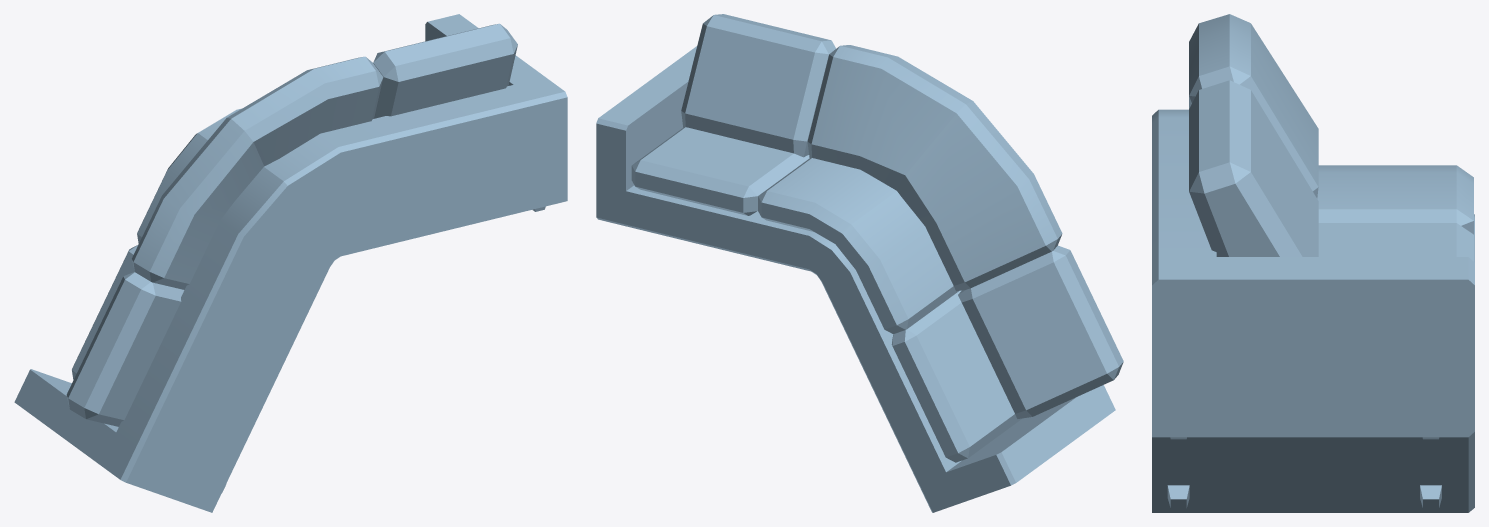
The model's file is sofa.fbx.
The picture shows the model from 3 angles, left to right: view 1: azimuth 30°, elevation 25°; view 2: azimuth 150°, elevation 25°; view 3: azimuth 270°, elevation 25°; orthographic projection. The views are drawn at different scales.
Parts seen in each view (by area): view 1: polySurface25; view 2: polySurface25; view 3: polySurface25.
Boxes of the visible parts, bbox=[...] form: polySurface25: bbox=[14, 14, 567, 512]; polySurface25: bbox=[596, 14, 1123, 512]; polySurface25: bbox=[1152, 14, 1474, 512].
Bounding box in the file's own units: 287 × 228 × 116.
